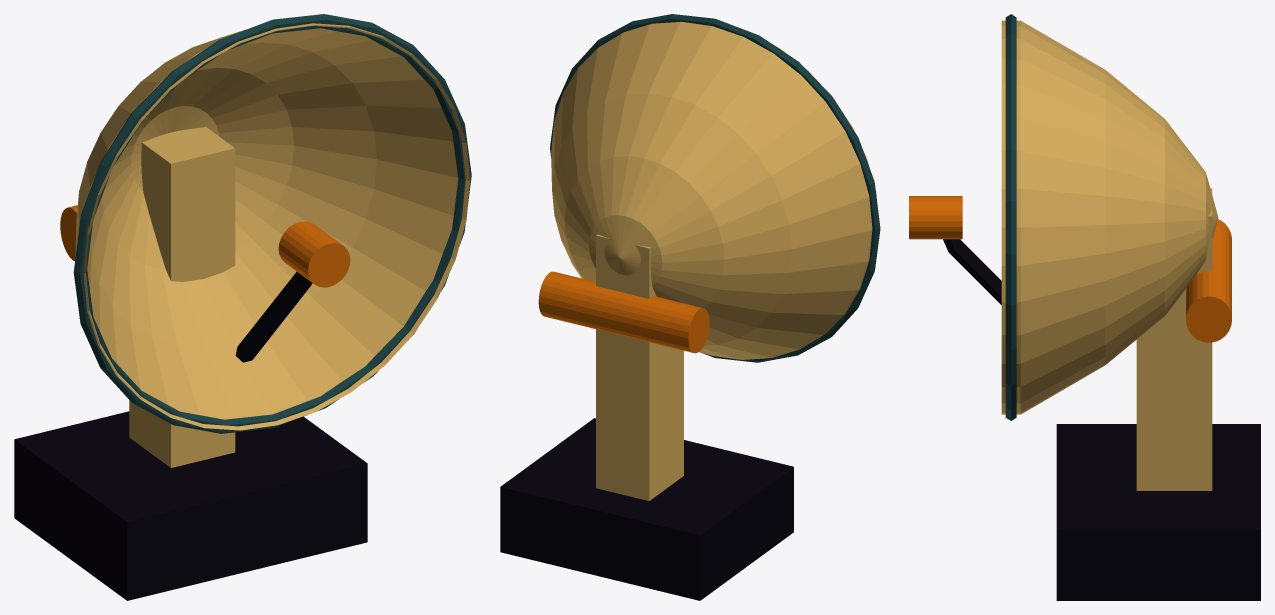
File: dish_antenna_neon6.fbx
The picture shows the model from 3 angles, left to right: view 1: azimuth 30°, elevation 25°; view 2: azimuth 150°, elevation 25°; view 3: azimuth 270°, elevation 25°; orthographic projection. The views are drawn at different scales.
Visible parts, largest first — view 1: Part_1, Part_0, Part_2; view 2: Part_1, Part_0; view 3: Part_1, Part_0, Part_2.
Part boxes in pixels (x1=…): Part_1: x1=73, y1=14, x2=471, y2=454; Part_0: x1=14, y1=143, x2=367, y2=600; Part_2: x1=237, y1=221, x2=350, y2=360; Part_1: x1=550, y1=14, x2=880, y2=362; Part_0: x1=500, y1=235, x2=793, y2=600; Part_1: x1=949, y1=14, x2=1218, y2=420; Part_0: x1=1056, y1=216, x2=1260, y2=600; Part_2: x1=909, y1=196, x2=1001, y2=300.
Size of the model in its own units: 2.3 by 3.15 by 1.95.
